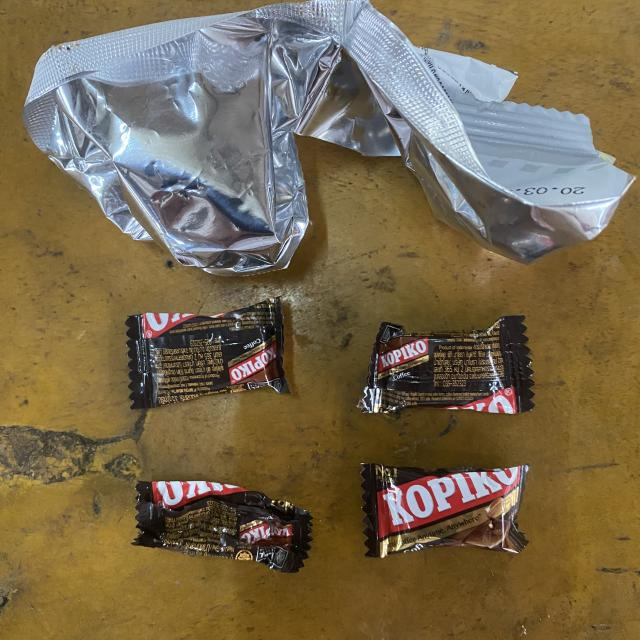plastik: (22, 0, 634, 275), (126, 298, 290, 409), (358, 315, 534, 414), (132, 481, 312, 572), (361, 464, 529, 558)
